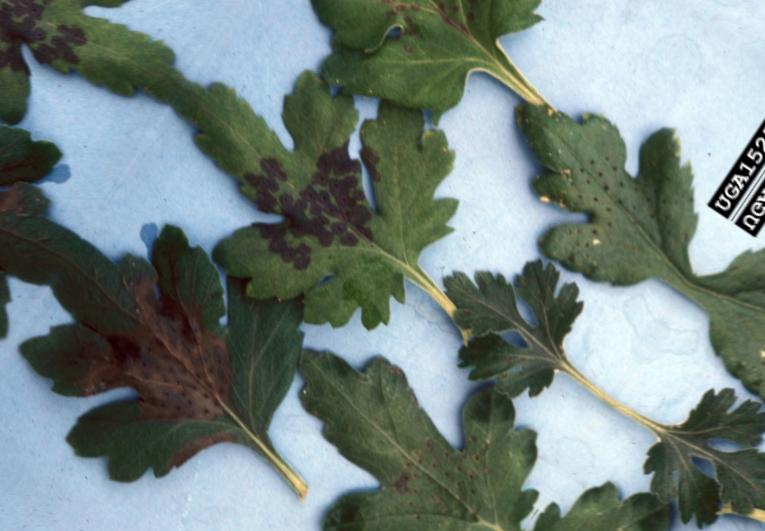Tomato leaf bacterial spot: (205, 266, 581, 531), (438, 20, 757, 326), (227, 0, 616, 195), (412, 220, 639, 437)
